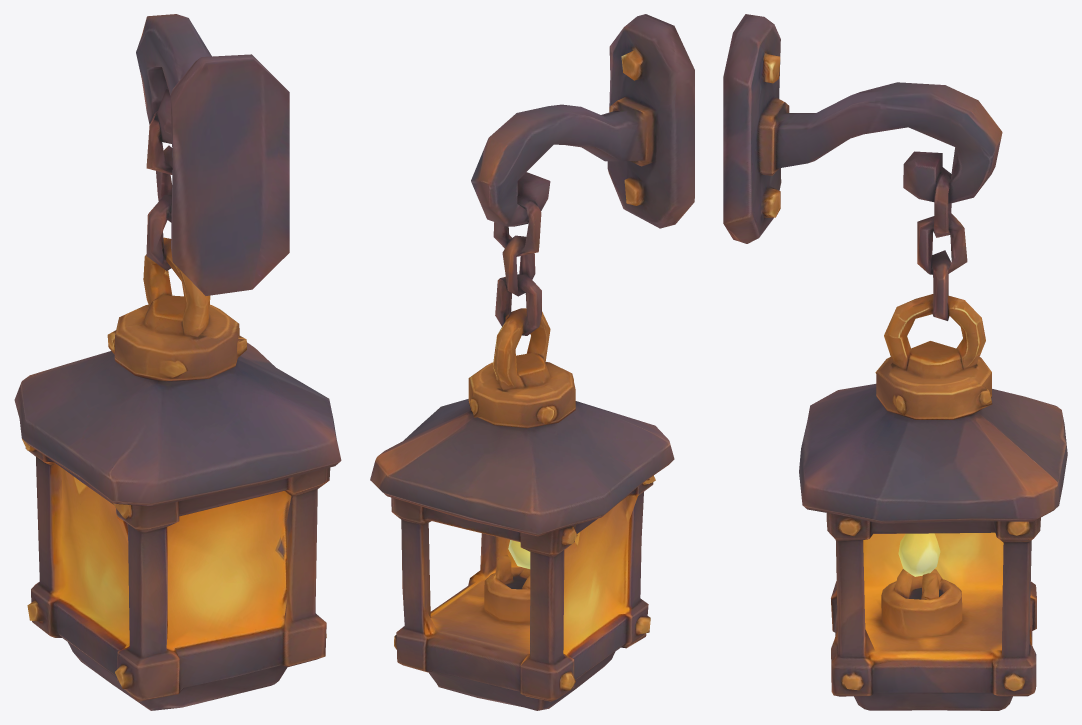
Rendered from dock-lantern.glb.
3 renders of one model, left to right at view 1: azimuth 30°, elevation 25°; view 2: azimuth 150°, elevation 25°; view 3: azimuth 270°, elevation 25°, orthographic. The views are drawn at different scales.
Parts seen in each view (by area): view 1: tripo_node_e2d1965a-dff9-46a6-9be2-072c370844cd; view 2: tripo_node_e2d1965a-dff9-46a6-9be2-072c370844cd; view 3: tripo_node_e2d1965a-dff9-46a6-9be2-072c370844cd.
Boxes of the visible parts, x1,y1,x2,y2 form: tripo_node_e2d1965a-dff9-46a6-9be2-072c370844cd: (14, 14, 341, 710); tripo_node_e2d1965a-dff9-46a6-9be2-072c370844cd: (370, 14, 694, 710); tripo_node_e2d1965a-dff9-46a6-9be2-072c370844cd: (723, 14, 1067, 710).
Bounding box in the file's own units: 0.2269 × 0.6 × 0.2945.
1 material, 1 textured.
